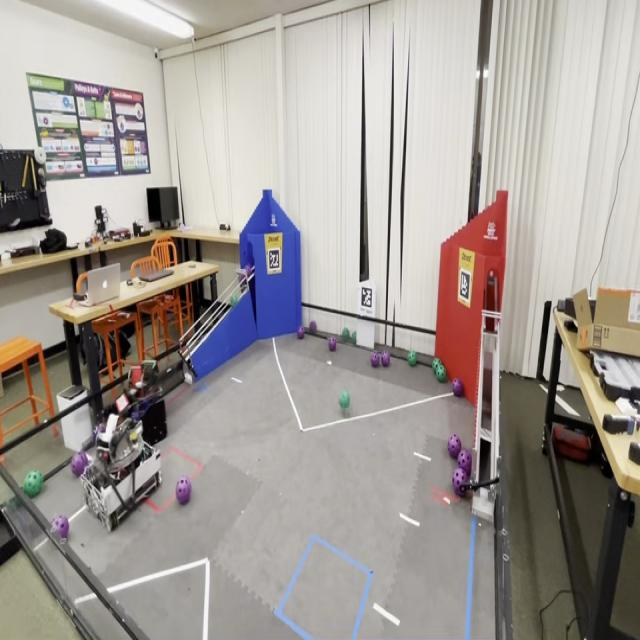artifact_green: (23, 471, 43, 497), (71, 450, 88, 477), (52, 516, 69, 540), (339, 390, 349, 410), (436, 364, 447, 382), (408, 350, 417, 367), (432, 358, 441, 372), (342, 328, 350, 340), (129, 432, 137, 444), (433, 363, 442, 373), (435, 364, 445, 373), (230, 294, 237, 306), (351, 331, 357, 343)
artifact_purple: (176, 476, 191, 504), (452, 469, 467, 496), (71, 452, 87, 477), (52, 516, 69, 539), (458, 450, 471, 476), (448, 434, 461, 458), (238, 264, 252, 284), (452, 379, 463, 397), (381, 351, 390, 367), (78, 451, 89, 464), (371, 350, 379, 367), (328, 337, 336, 351), (244, 264, 253, 276), (310, 320, 317, 334), (238, 273, 245, 284), (298, 326, 304, 338)
